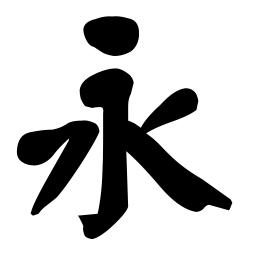D: (82, 14, 141, 57)
HSZ: (97, 67, 136, 114)
Hs: (75, 72, 94, 109)
Ne: (176, 181, 237, 216)
PNc: (128, 117, 160, 155)
PZe: (30, 186, 60, 217)
Ps: (171, 86, 200, 118)
SG: (77, 200, 131, 242)
Sm: (100, 164, 131, 190)
TPZ: (61, 118, 100, 160)
Ts: (15, 128, 53, 166)
